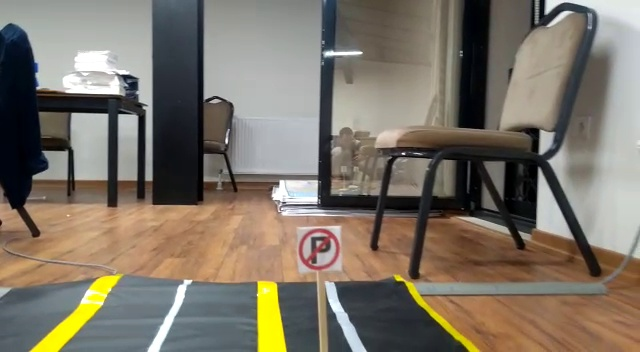park_yapilmaz: (294, 224, 342, 273)
